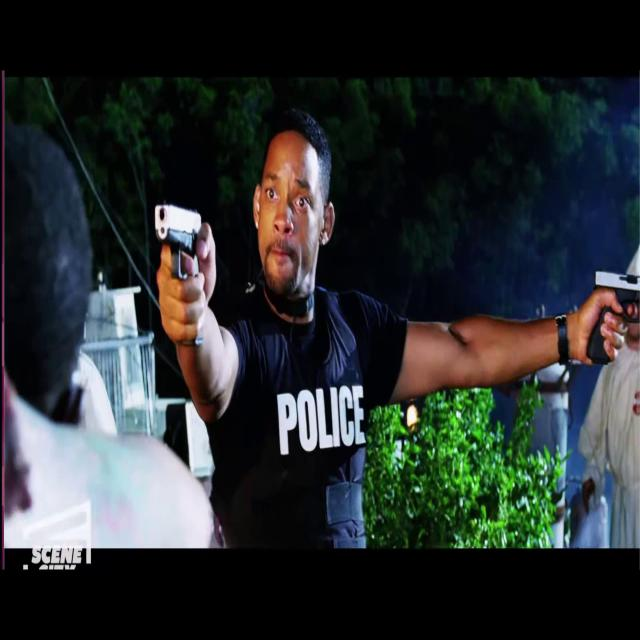weapons: (140, 178, 215, 361)
